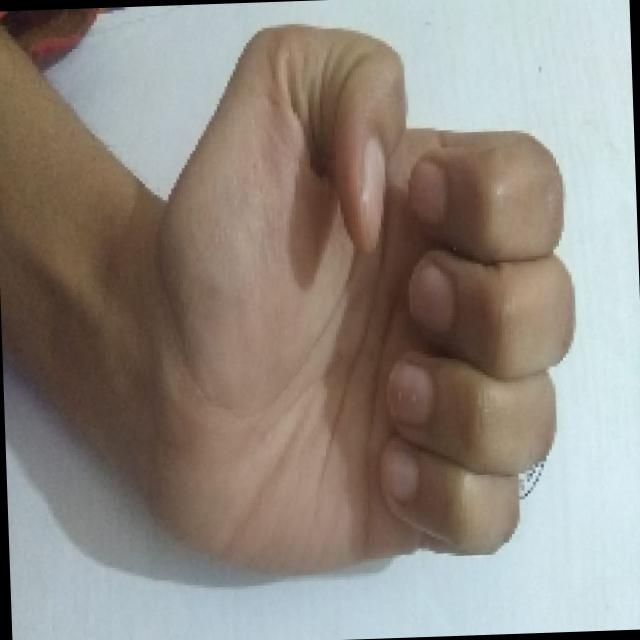Nail: (407, 267, 452, 336), (387, 360, 433, 425), (358, 137, 384, 243), (380, 438, 418, 501), (409, 160, 445, 226)
